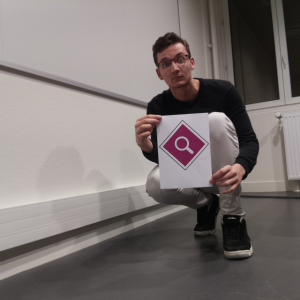search: (159, 119, 209, 168)
